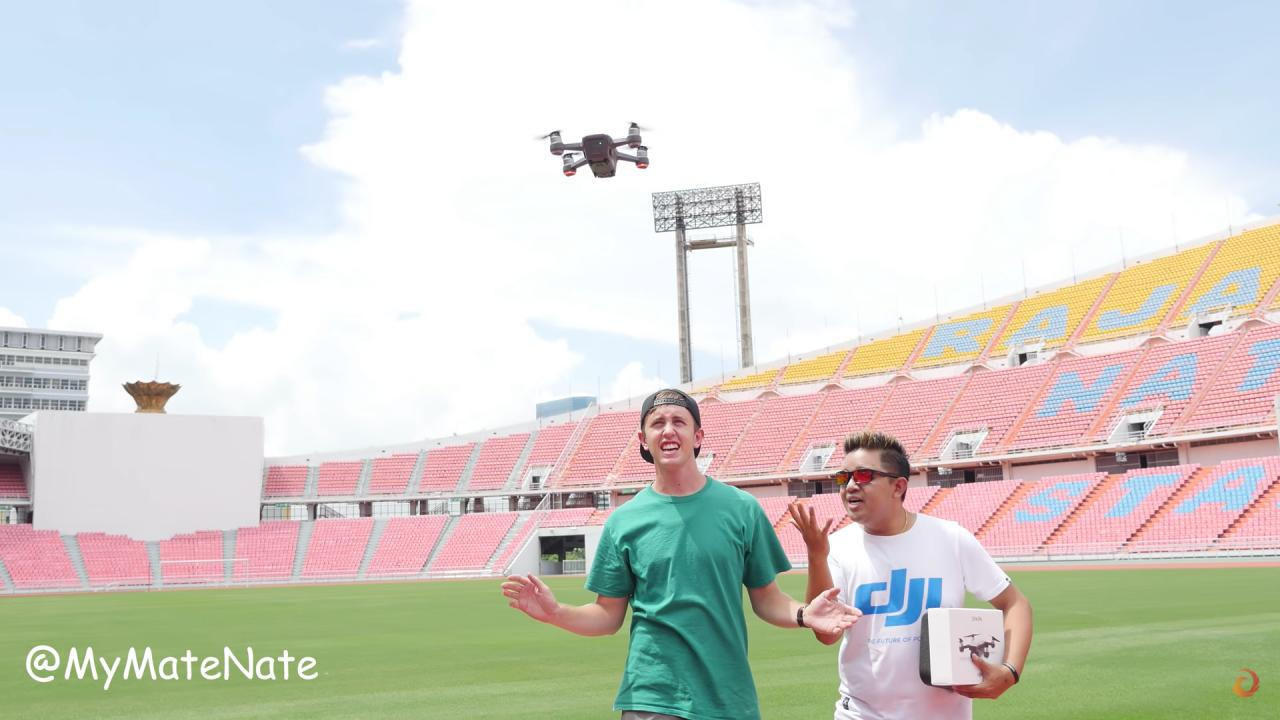Drone: (521, 106, 670, 194)
